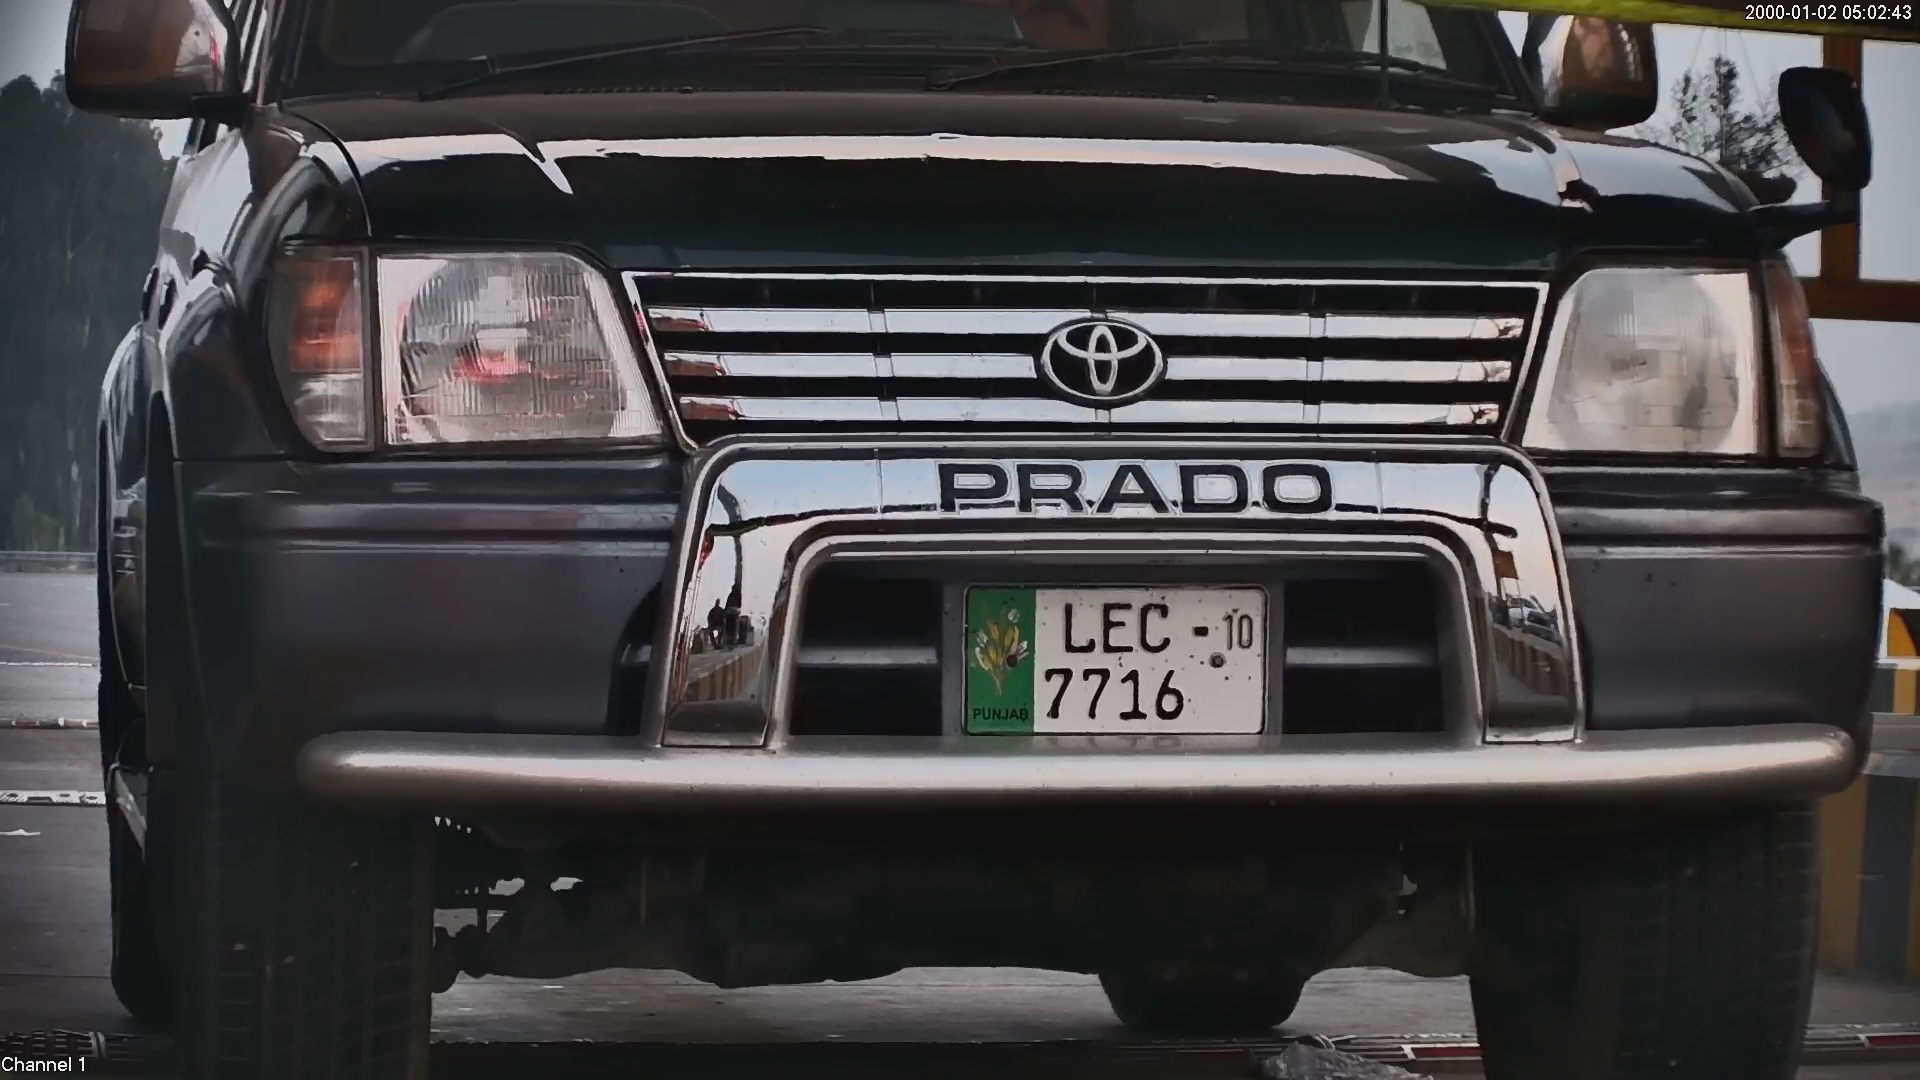Number_Plate: (956, 569, 1275, 746)
